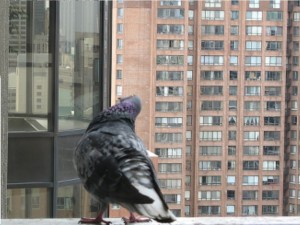pigeon: (72, 93, 178, 225)
